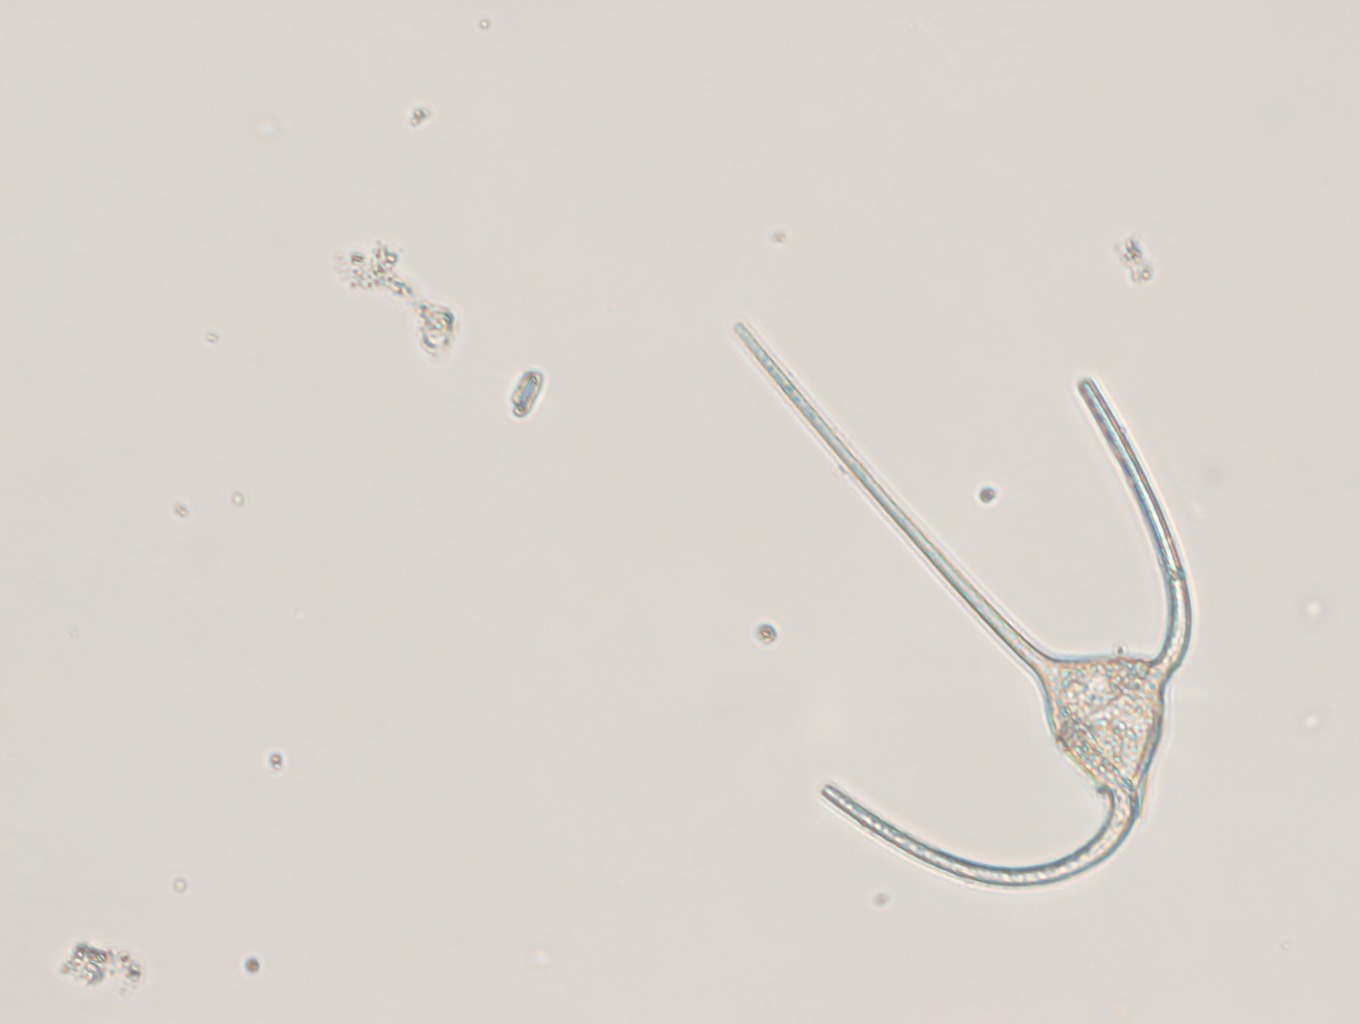ceratium trichoceros: (714, 308, 1197, 890)
